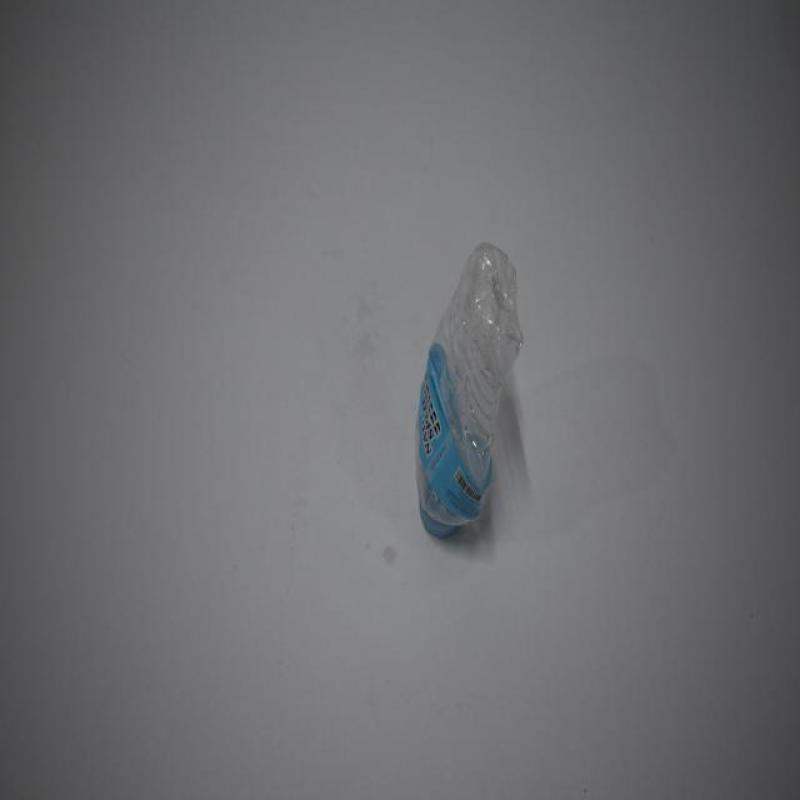botella: (415, 243, 526, 548)
